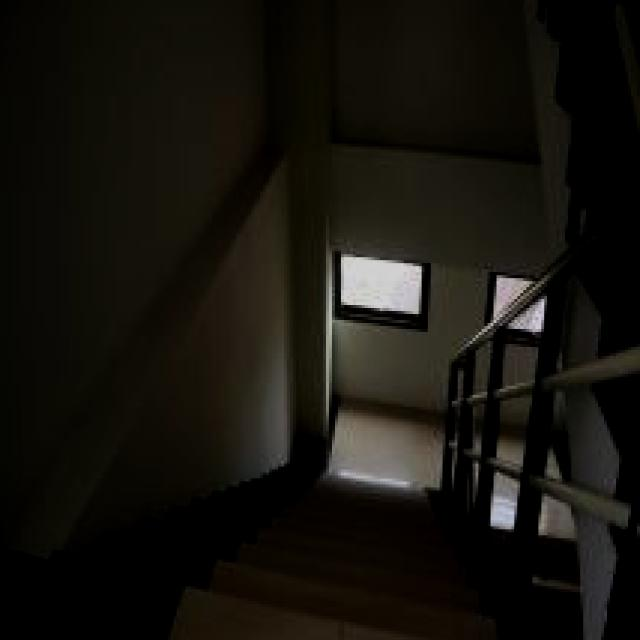downstair: (228, 485, 435, 640)
